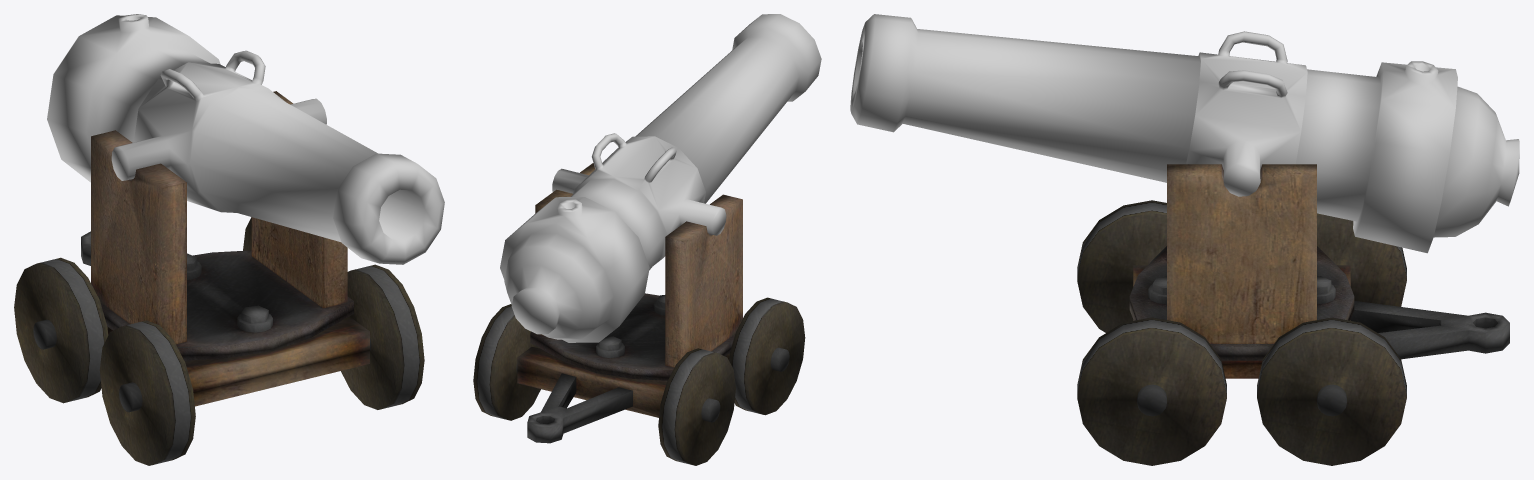
Rendered from cannon.fbx.
3 renders of one model, left to right at view 1: azimuth 30°, elevation 25°; view 2: azimuth 150°, elevation 25°; view 3: azimuth 270°, elevation 25°, orthographic. The views are drawn at different scales.
Parts seen in each view (by area): view 1: U3DMesh; view 2: U3DMesh; view 3: U3DMesh.
Boxes of the visible parts, x1,y1,x2,y2 form: U3DMesh: (14, 14, 444, 465); U3DMesh: (473, 14, 821, 465); U3DMesh: (850, 14, 1519, 465).
Bounding box in the file's own units: 1.65 × 2.11 × 3.35.
